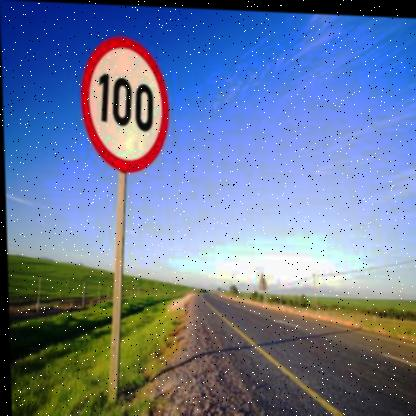Speed Limit -100-: (73, 31, 170, 175)
